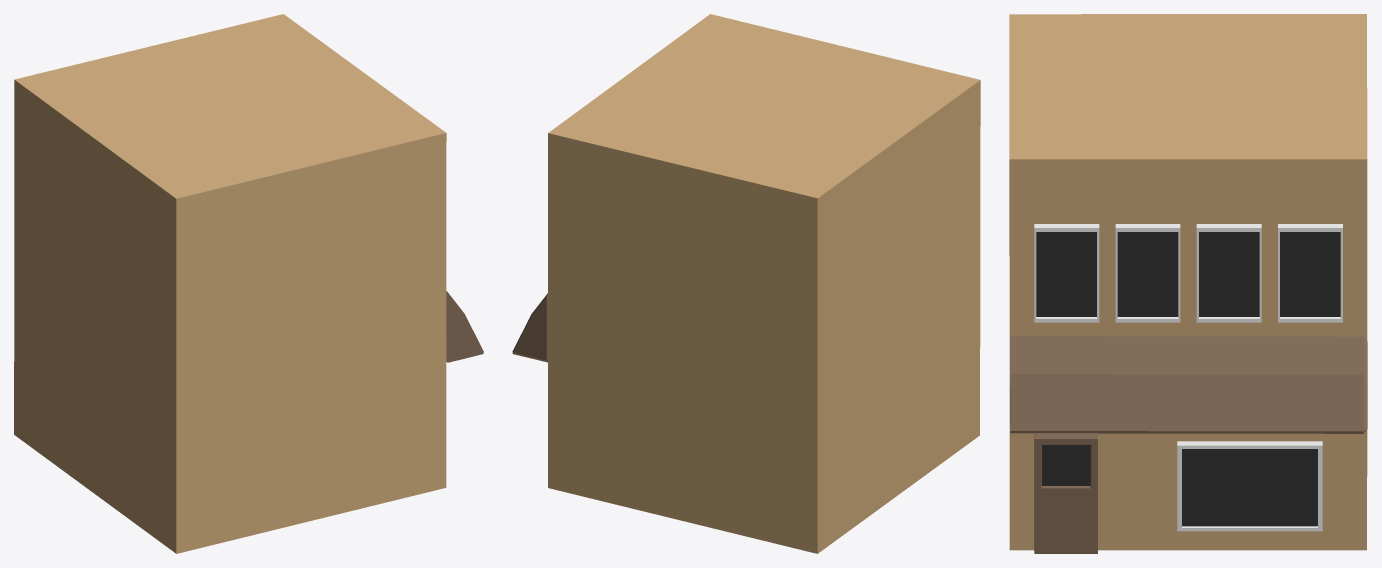
3 renders of one model, left to right at view 1: azimuth 30°, elevation 25°; view 2: azimuth 150°, elevation 25°; view 3: azimuth 270°, elevation 25°, orthographic. The views are drawn at different scales.
Visible parts, largest first — view 1: BusinessBuildings.060; view 2: BusinessBuildings.060; view 3: BusinessBuildings.060.
Part boxes in pixels (box(x1,y1,x2,y2)): BusinessBuildings.060: box(14, 14, 483, 553); BusinessBuildings.060: box(512, 14, 980, 553); BusinessBuildings.060: box(1009, 14, 1367, 553).
Size of the model in its own units: 90.69 by 100 by 82.97.
